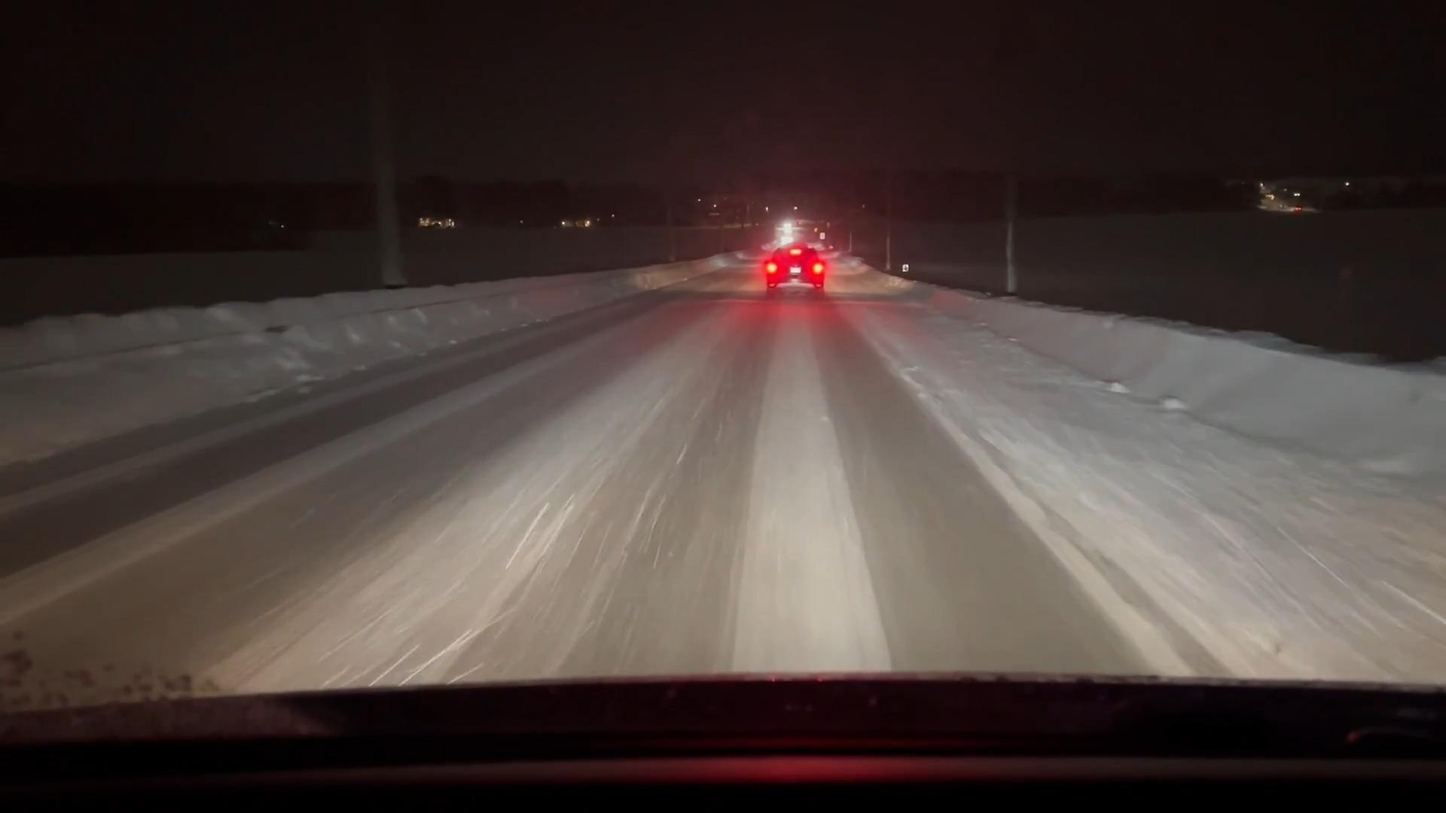Snow: (0, 251, 1446, 691)
